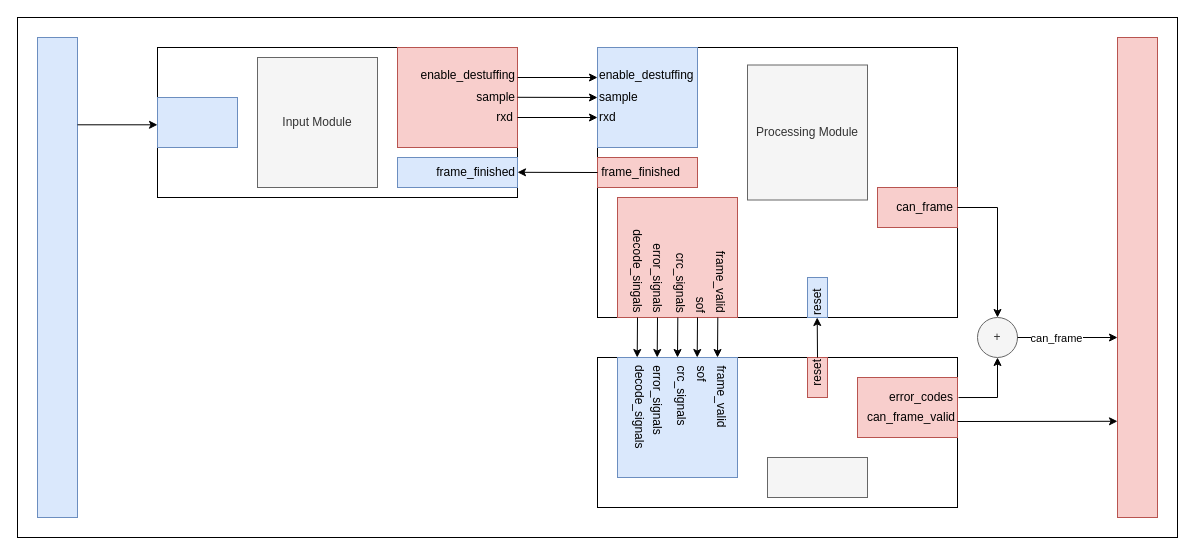
This 1195x555 diagram has some shape labels left out. The shapes that lost their labels are listed below. From the top down, each one's centre as x and y in pixels, then its label:
At [197,122]: "rxd_async".
At [817,477]: "Handling Module".
